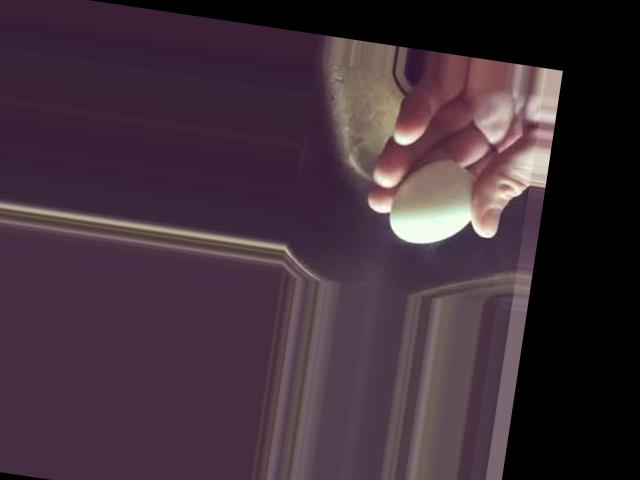egg: (386, 154, 479, 251)
